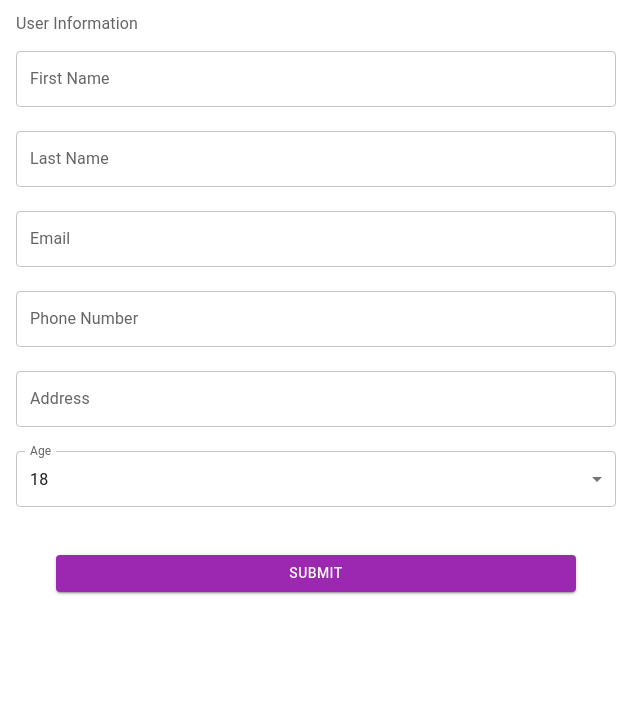
Test: UserForm component › validateForm returns false when email or phone number is invalid
Type "invalid email" into the field labelled "Email" at (316, 239), box [16,211,616,267]
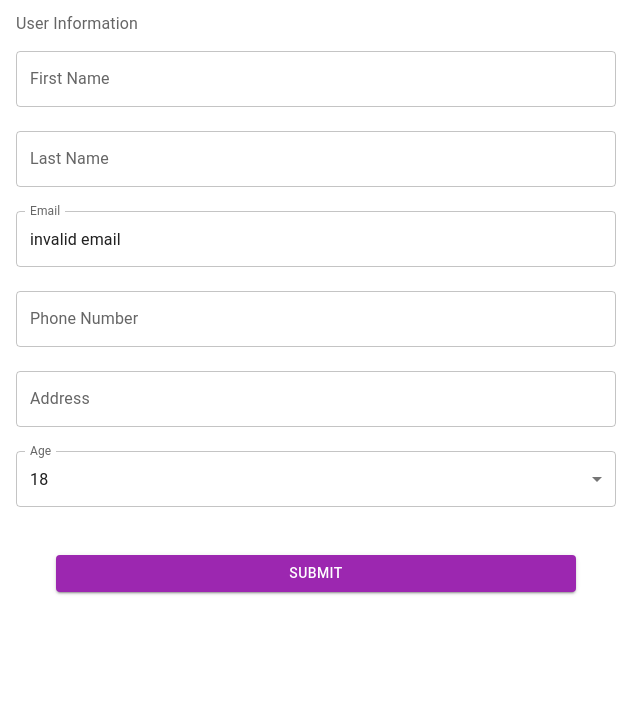
Type "123" into the field labelled "Phone Number" at (316, 319), box [16,291,616,347]
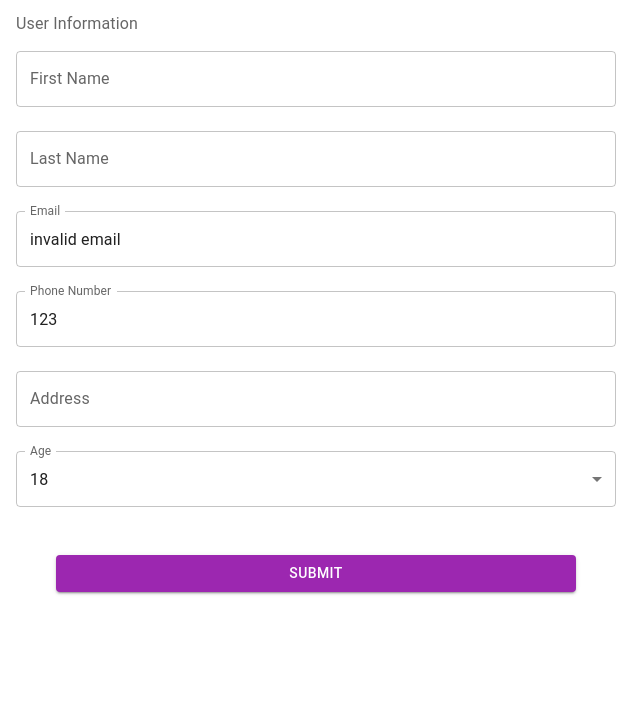
Click the button "Submit" at (316, 573), box [56,555,576,592]
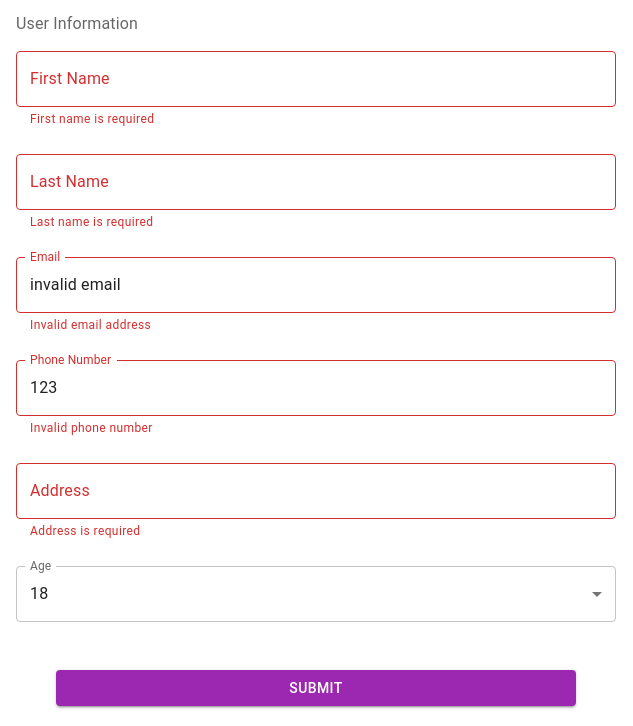
Expected: the text "Invalid email address" is shown, [30,318,151,332]
Expected: the text "Invalid phone number" is shown, [30,421,153,435]
